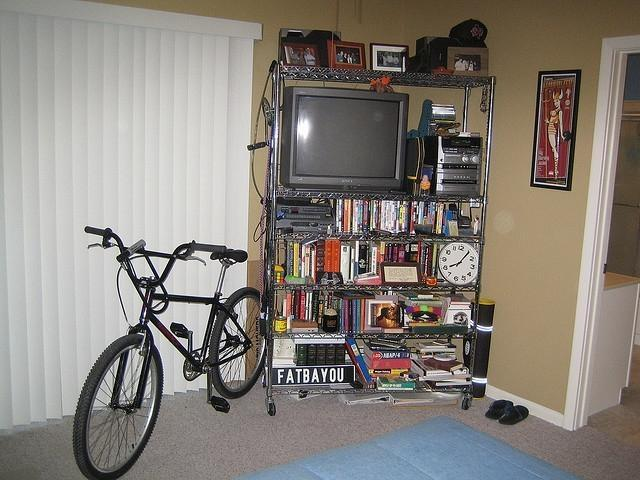bicycle: (71, 226, 268, 480)
